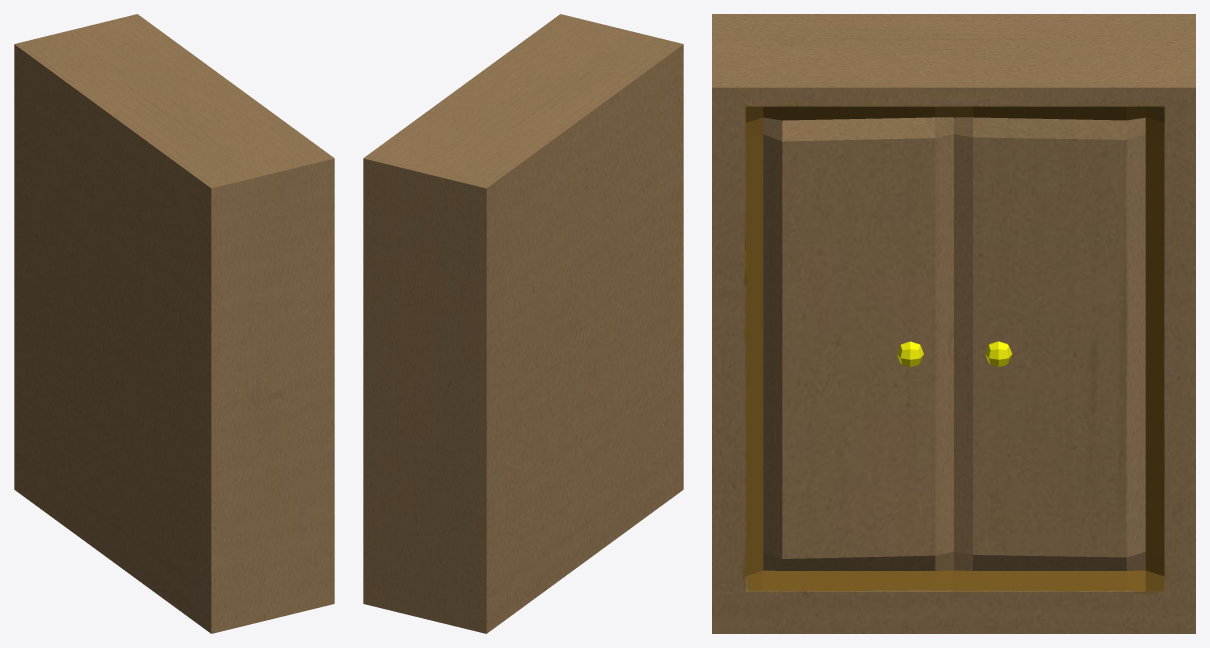
The model's file is Armario.fbx.
The picture shows the model from 3 angles, left to right: view 1: azimuth 30°, elevation 25°; view 2: azimuth 150°, elevation 25°; view 3: azimuth 270°, elevation 25°; orthographic projection. The views are drawn at different scales.
Visible parts, largest first — view 1: Cube; view 2: Cube; view 3: Cube.
Boxes of the visible parts, bbox=[...] form: Cube: bbox=[14, 14, 334, 633]; Cube: bbox=[363, 14, 683, 633]; Cube: bbox=[712, 14, 1195, 633].
Bounding box in the file's own units: 217 × 690 × 554.
2 materials, 1 textured.
